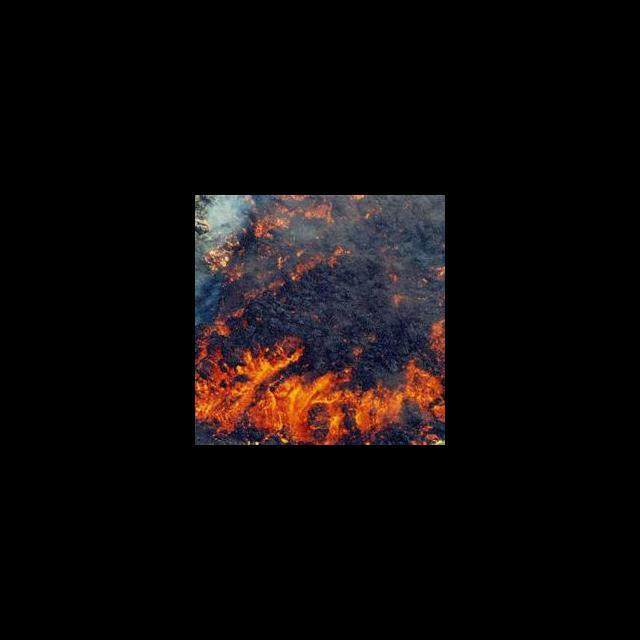Fire: (195, 319, 444, 441), (255, 195, 338, 239), (202, 242, 236, 272), (387, 292, 405, 308), (433, 260, 444, 284), (386, 272, 399, 283)
Smoke: (197, 195, 250, 241)
